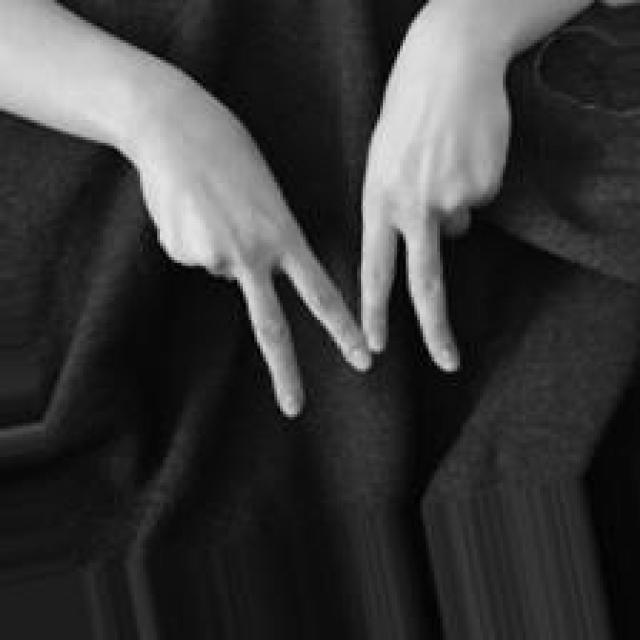M: (139, 54, 514, 416)
